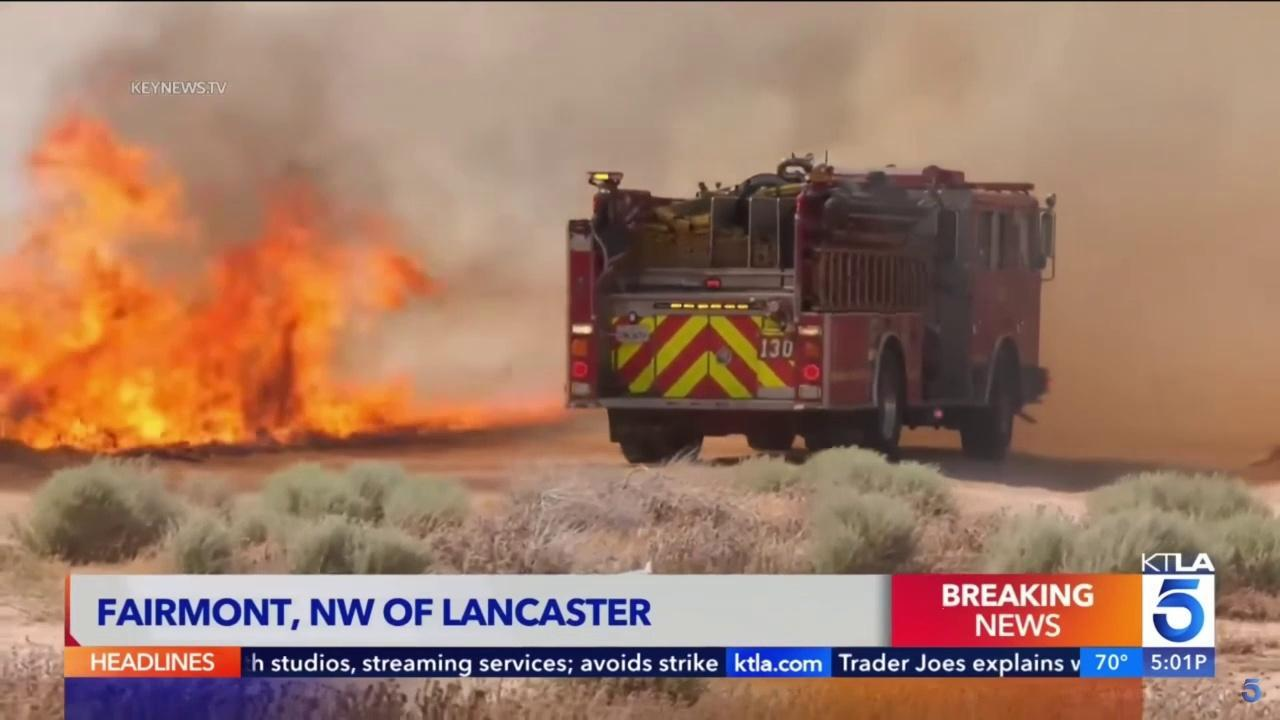fire: (0, 94, 568, 459)
smoke: (0, 0, 1280, 478)
